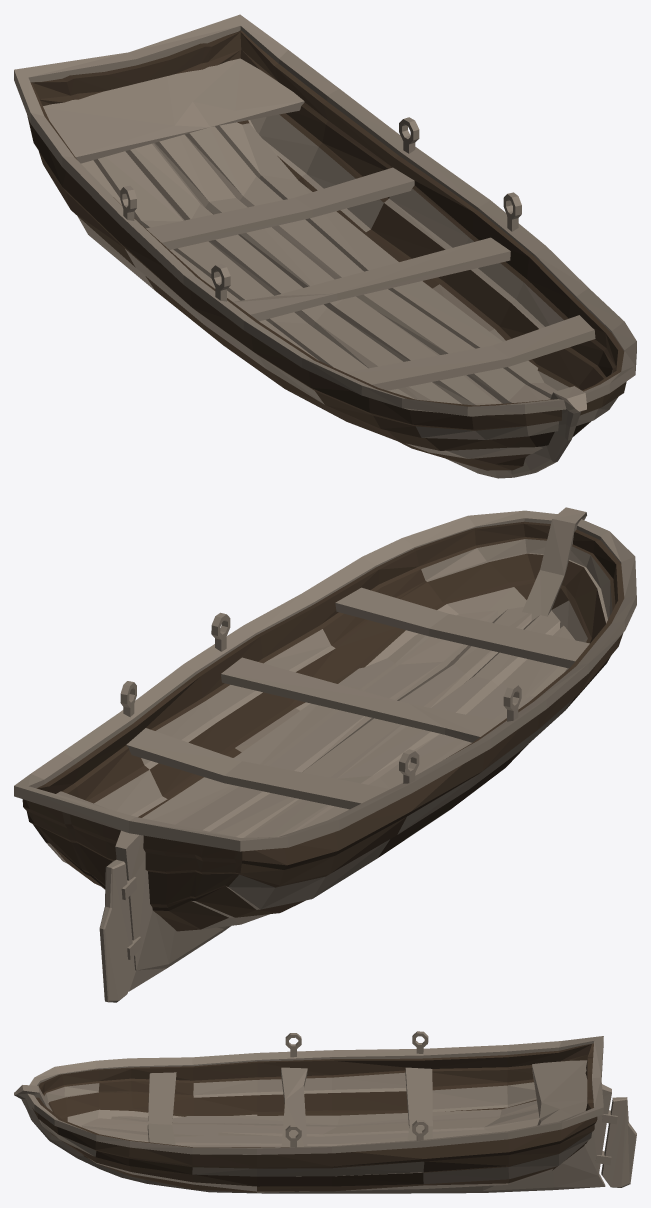
Rendered from SM_Veh_Boat_Rowing_01_Hull_Pirate.glb.
The picture shows the model from 3 angles, top to bottom: view 1: azimuth 30°, elevation 25°; view 2: azimuth 150°, elevation 25°; view 3: azimuth 270°, elevation 25°; orthographic projection. The views are drawn at different scales.
Parts seen in each view (by area): view 1: SM_Veh_Boat_Rowing_01_Hull_Pirate_00; view 2: SM_Veh_Boat_Rowing_01_Hull_Pirate_00; view 3: SM_Veh_Boat_Rowing_01_Hull_Pirate_00.
Part boxes in pixels (left/top/right/bottom): SM_Veh_Boat_Rowing_01_Hull_Pirate_00: left=14, top=14, right=636, bottom=478; SM_Veh_Boat_Rowing_01_Hull_Pirate_00: left=14, top=507, right=636, bottom=1002; SM_Veh_Boat_Rowing_01_Hull_Pirate_00: left=14, top=1031, right=636, bottom=1193.
Size of the model in its own units: 1.98 by 1.16 by 5.39.
1 material, 1 textured.
